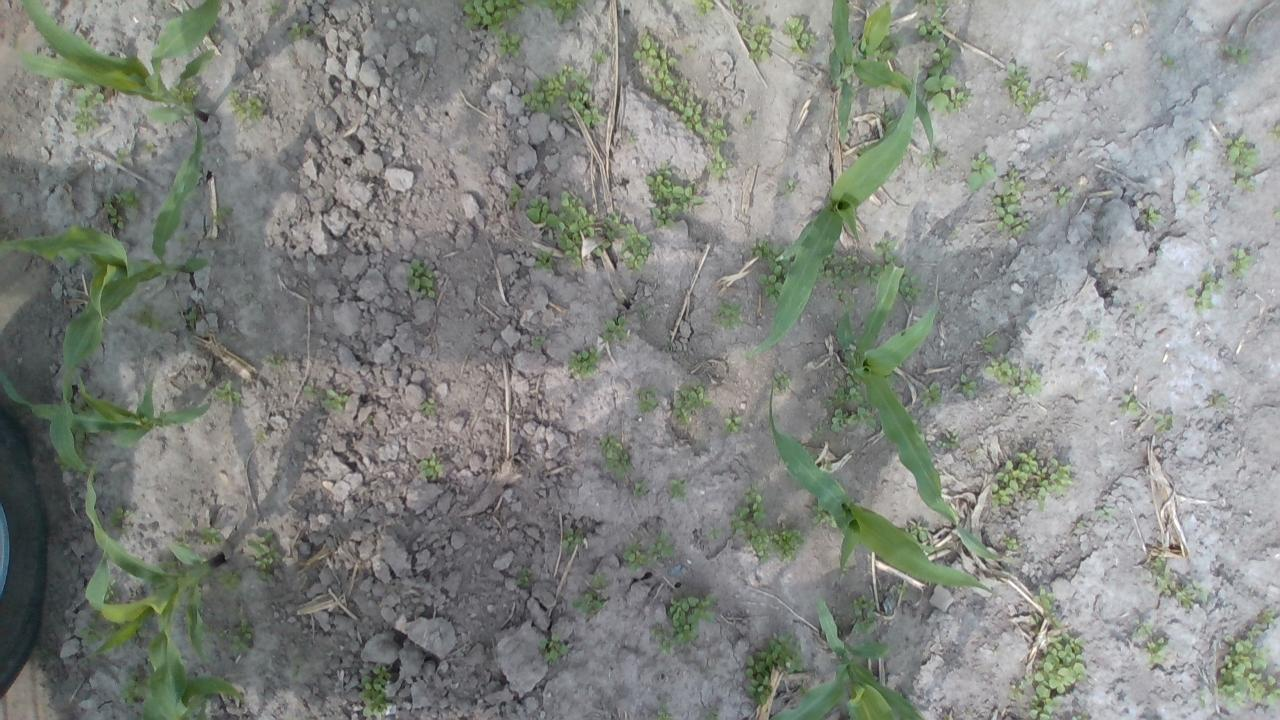Maize: (0, 112, 210, 472), (835, 261, 1017, 564), (737, 72, 920, 360), (766, 382, 994, 598), (82, 453, 228, 720), (10, 0, 226, 131), (765, 592, 928, 720), (0, 369, 226, 452), (826, 0, 935, 165), (138, 676, 244, 720)
Weeds: (526, 195, 654, 272), (634, 30, 704, 134), (1008, 632, 1089, 720), (1216, 603, 1280, 708), (918, 0, 974, 116), (988, 448, 1072, 511), (744, 632, 804, 704), (650, 592, 718, 654), (644, 160, 704, 230), (1150, 554, 1210, 610), (729, 484, 768, 563), (819, 254, 874, 307), (522, 64, 568, 122), (993, 166, 1031, 236), (984, 354, 1044, 398), (1001, 62, 1048, 116), (730, 0, 771, 61), (568, 65, 606, 130), (750, 238, 784, 302), (1226, 134, 1260, 194), (672, 380, 714, 428), (460, 0, 528, 29), (1186, 268, 1226, 316), (1132, 618, 1170, 668), (359, 663, 392, 718), (705, 118, 734, 178), (247, 534, 281, 582), (103, 188, 140, 231), (600, 432, 635, 477), (769, 524, 808, 563), (781, 16, 817, 56), (829, 406, 878, 435), (404, 258, 436, 300), (849, 594, 882, 634), (534, 0, 588, 24), (825, 376, 864, 408), (966, 151, 996, 190), (118, 668, 150, 704), (566, 346, 602, 378), (125, 302, 162, 333), (220, 619, 253, 652), (228, 92, 264, 122), (66, 81, 105, 108), (538, 634, 570, 664), (1226, 247, 1256, 278), (900, 266, 924, 304), (714, 302, 744, 331), (570, 592, 606, 616), (648, 530, 675, 561), (632, 387, 662, 414), (107, 507, 134, 536), (494, 29, 520, 59), (70, 109, 100, 134), (624, 538, 646, 572), (320, 389, 350, 413), (950, 373, 976, 400), (918, 381, 944, 408), (810, 503, 836, 529), (602, 316, 628, 342), (418, 453, 444, 479), (76, 618, 102, 644), (216, 382, 243, 407), (1222, 44, 1250, 68), (935, 428, 962, 452), (880, 36, 907, 60), (560, 528, 585, 553), (921, 148, 948, 171), (875, 238, 898, 264), (769, 369, 792, 394), (285, 20, 311, 42), (667, 476, 688, 503), (1119, 390, 1139, 417), (217, 570, 244, 590), (1069, 60, 1092, 82), (1050, 187, 1074, 208), (1153, 411, 1174, 435), (909, 520, 930, 544), (1034, 588, 1054, 612), (722, 415, 744, 436), (213, 204, 234, 226), (534, 248, 555, 270), (172, 85, 198, 102), (506, 184, 524, 208), (200, 528, 223, 546), (691, 0, 714, 18), (588, 570, 608, 590), (302, 380, 322, 400), (515, 567, 534, 588), (980, 328, 996, 352), (184, 305, 200, 329), (1208, 393, 1230, 410), (264, 354, 287, 370), (1185, 188, 1204, 207), (705, 523, 724, 542), (638, 304, 658, 322), (1142, 206, 1162, 224), (633, 478, 651, 497), (418, 398, 436, 417), (1160, 52, 1177, 71), (1086, 325, 1102, 345), (590, 48, 608, 64), (1002, 536, 1019, 552), (266, 1, 284, 16), (1094, 505, 1114, 518), (532, 332, 548, 348), (624, 130, 639, 147), (656, 706, 674, 720), (104, 580, 115, 600), (255, 428, 269, 443), (785, 180, 796, 198), (115, 148, 126, 166), (1188, 138, 1202, 152), (1134, 300, 1146, 316), (1269, 125, 1280, 141), (702, 711, 721, 720), (896, 582, 908, 596), (1198, 692, 1208, 708), (874, 264, 882, 282), (741, 114, 753, 126), (144, 144, 156, 154), (917, 431, 927, 441), (1076, 519, 1086, 529), (1274, 207, 1280, 218), (913, 420, 919, 426)
